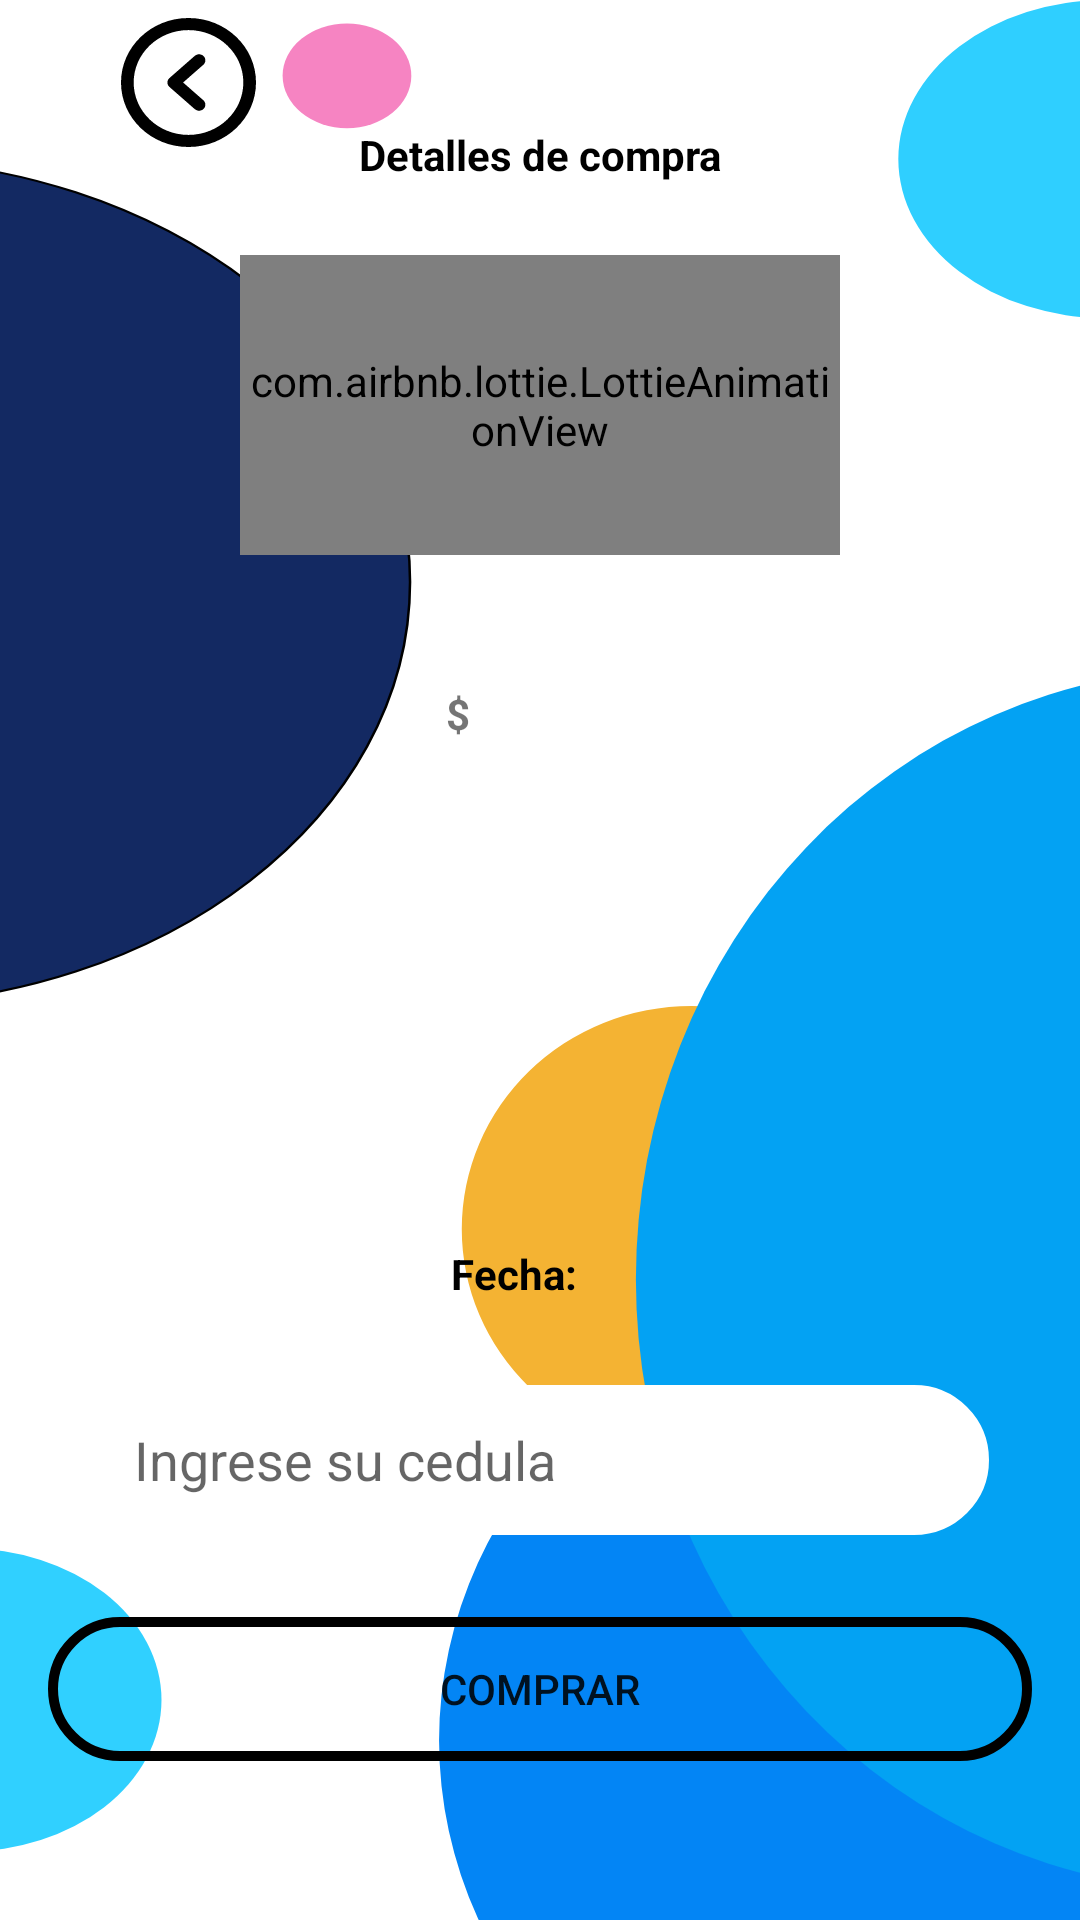

Icons on this 1080 x 1920 Android screen, each with the point to tap as point (x, y):
atras: point (188, 82)
